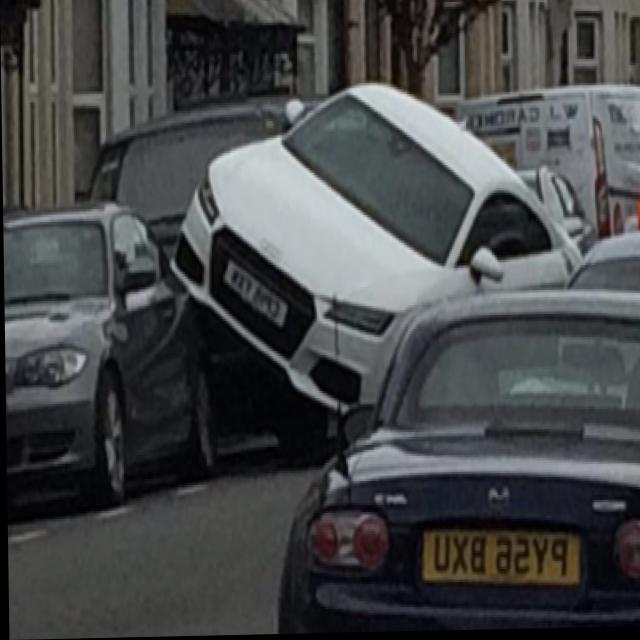licence: (414, 527, 588, 587)
